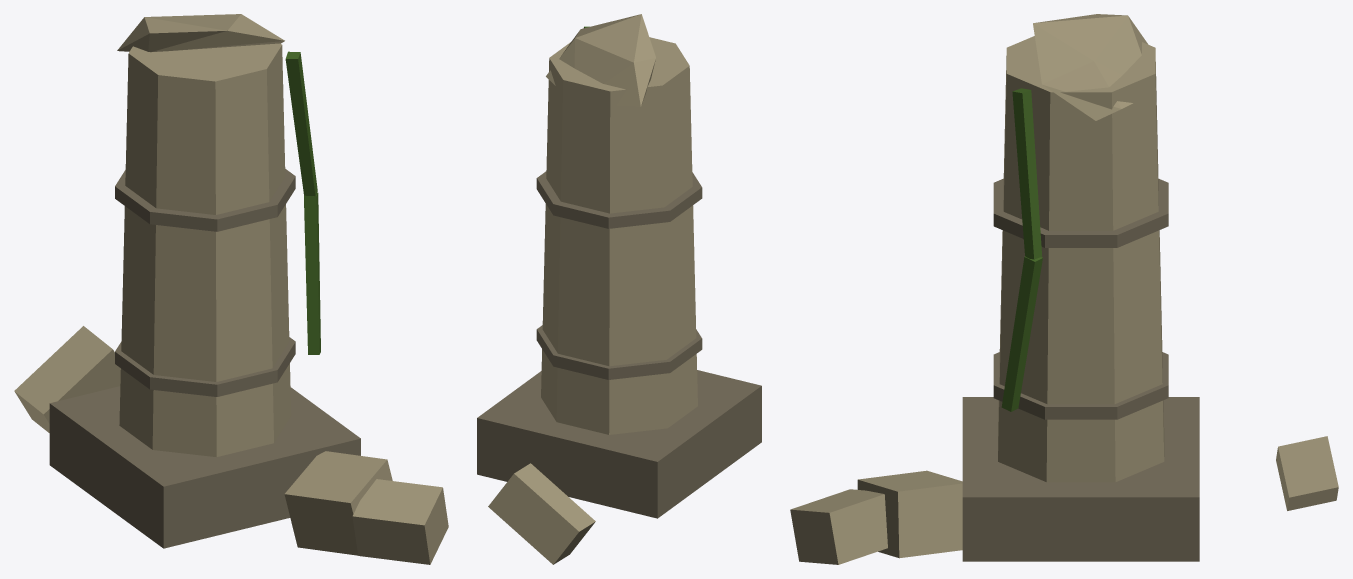
Rendered from pillar_broken.glb.
3 renders of one model, left to right at view 1: azimuth 30°, elevation 25°; view 2: azimuth 150°, elevation 25°; view 3: azimuth 270°, elevation 25°, orthographic. The views are drawn at different scales.
Parts seen in each view (by area): view 1: stone_temple-col, stone_temple_dark-col, vine; view 2: stone_temple-col, stone_temple_dark-col; view 3: stone_temple-col, stone_temple_dark-col, vine.
Part boxes in pixels (bbox=[...]): stone_temple-col: bbox=[14, 14, 448, 564]; stone_temple_dark-col: bbox=[49, 169, 360, 548]; vine: bbox=[285, 51, 320, 354]; stone_temple-col: bbox=[488, 14, 697, 564]; stone_temple_dark-col: bbox=[477, 171, 761, 518]; stone_temple-col: bbox=[790, 14, 1338, 564]; stone_temple_dark-col: bbox=[962, 178, 1199, 561]; vine: bbox=[1001, 88, 1042, 411].
Size of the model in its own units: 1.14 by 2.38 by 2.32.
